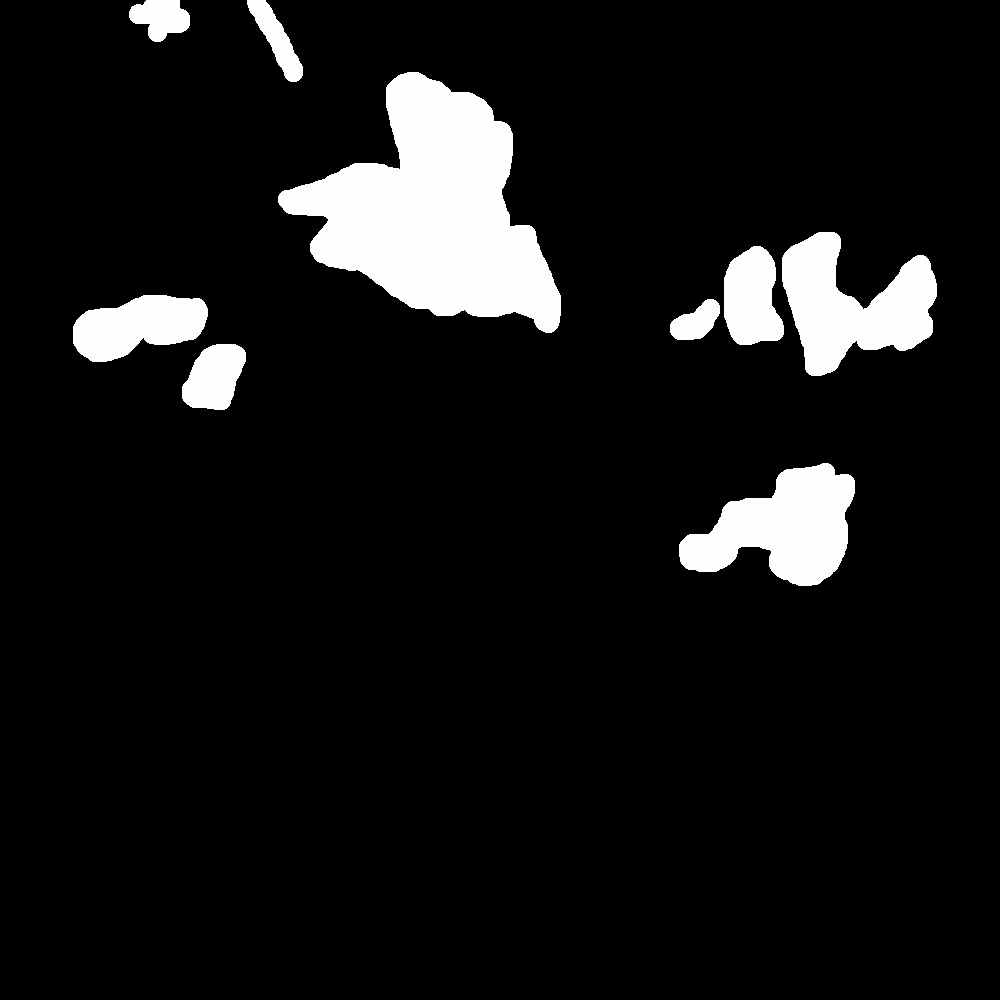illegal: (283, 67, 560, 332), (676, 236, 933, 376), (107, 697, 289, 873), (684, 469, 851, 584), (78, 299, 237, 405), (243, 1, 301, 88), (138, 4, 186, 35)
